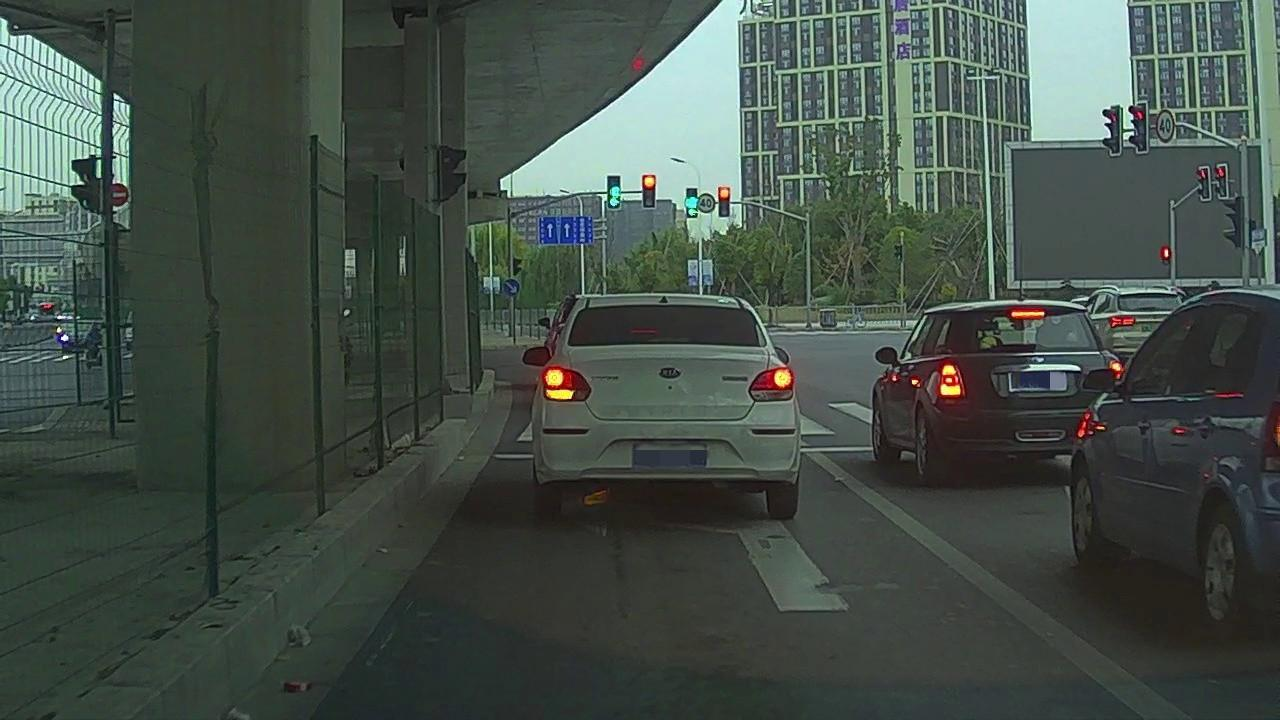traffic_light: (609, 174, 620, 208), (644, 174, 654, 207), (687, 189, 698, 217), (719, 187, 730, 215)
